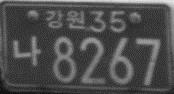2: (80, 36, 107, 85)
3: (89, 8, 106, 33)
5: (109, 9, 126, 33)
6: (108, 36, 134, 85)
7: (133, 36, 161, 86)
8: (53, 35, 77, 82)
강원_O: (44, 8, 85, 30)
나: (12, 35, 41, 67)
